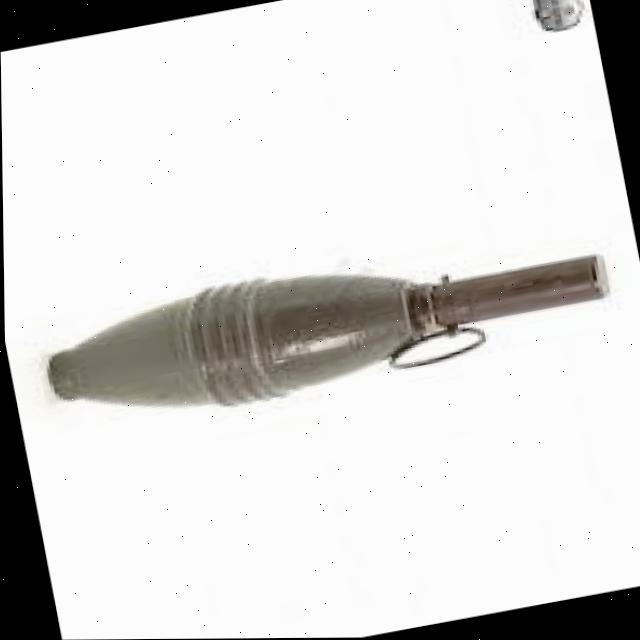grenade: (32, 212, 621, 450)
